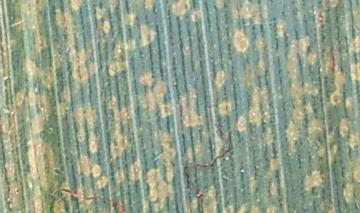tarspot: (51, 166, 64, 177), (37, 35, 46, 48), (317, 11, 324, 25), (304, 43, 312, 54), (38, 100, 46, 109), (182, 3, 189, 10), (56, 140, 62, 148), (80, 109, 88, 114), (150, 74, 156, 79)
